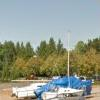Boat: (7, 69, 92, 100)
